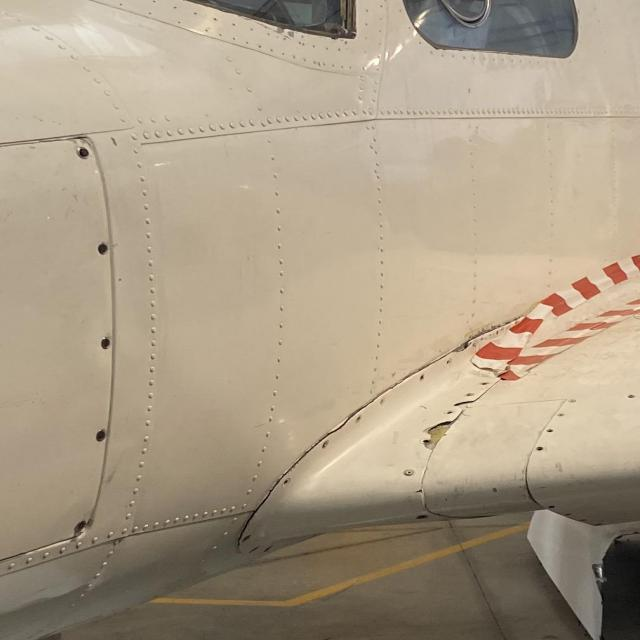Crack: (237, 498, 268, 549), (270, 457, 303, 491), (423, 420, 455, 448), (450, 398, 478, 420), (450, 336, 476, 355), (321, 427, 341, 441), (413, 489, 423, 494)
Missing-head: (279, 477, 295, 490), (413, 513, 432, 519), (534, 445, 546, 454), (242, 533, 252, 543), (544, 427, 557, 434), (353, 415, 364, 423), (418, 375, 425, 381)
Paint-off: (273, 26, 289, 34), (286, 30, 299, 39), (340, 39, 352, 47), (490, 486, 499, 494)
